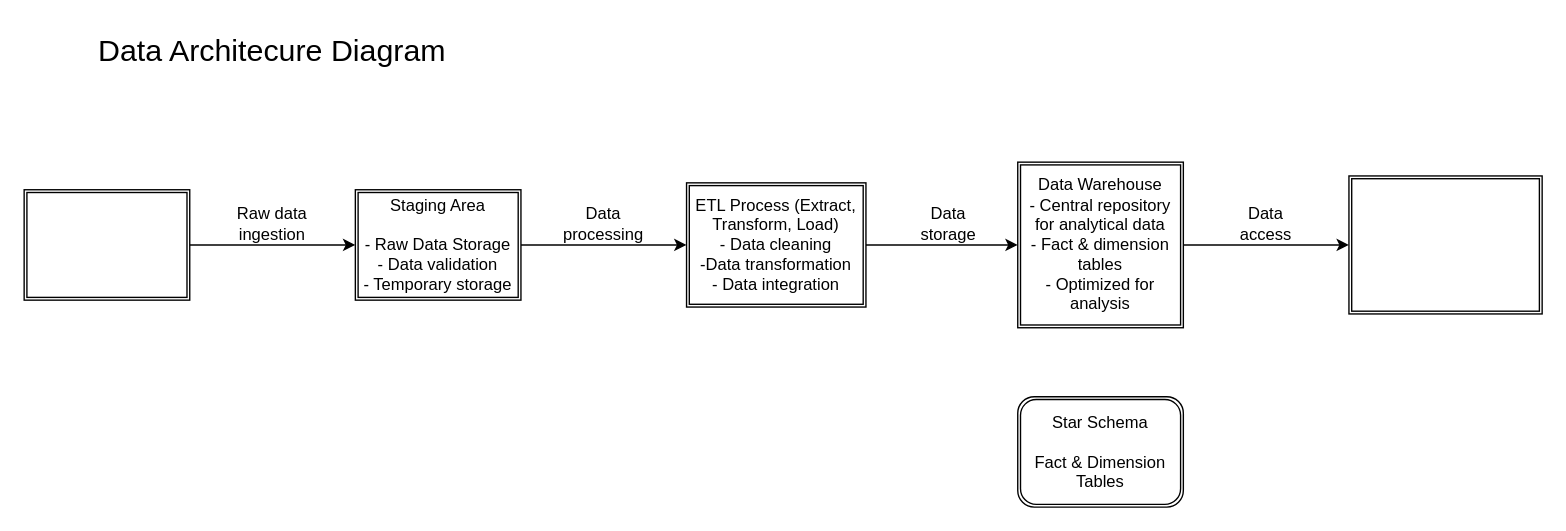
The diagram is 1566 pixels wide and 531 high, and some of its shapes have lost their labels. Each missing label, with the box of its shape:
Data Source - NYC Open Data (NYPD Complaint Dataset): (23, 188, 190, 300)
Visualization & Reporting - Dashboards - Charts - Reports: (1348, 175, 1542, 314)
